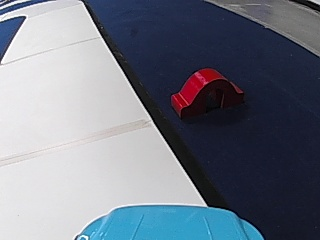bridge: (166, 64, 247, 118)
